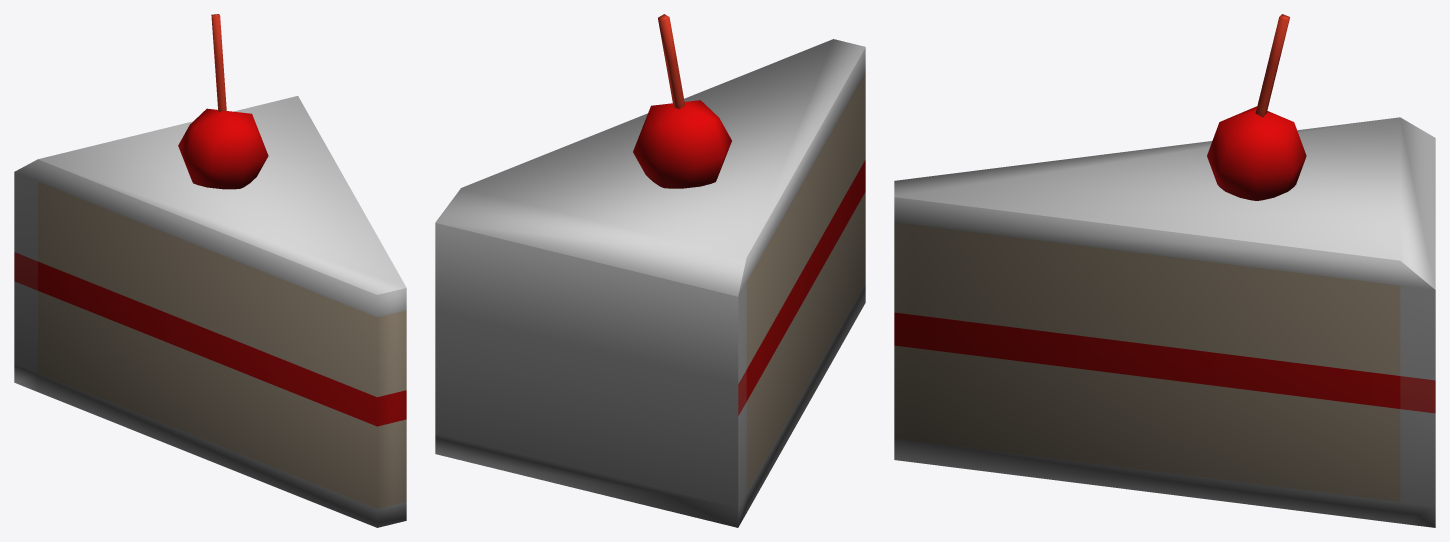
Rendered from Cake_Slice.fbx.
The picture shows the model from 3 angles, left to right: view 1: azimuth 30°, elevation 25°; view 2: azimuth 150°, elevation 25°; view 3: azimuth 270°, elevation 25°; orthographic projection. The views are drawn at different scales.
Visible parts, largest first — view 1: Cake_Slice; view 2: Cake_Slice; view 3: Cake_Slice.
Part boxes in pixels (box(x1,y1,x2,y2)): Cake_Slice: box(14, 14, 406, 527); Cake_Slice: box(435, 14, 865, 527); Cake_Slice: box(894, 14, 1435, 527).
Bounding box in the file's own units: 20.69 × 27.53 × 31.11.
